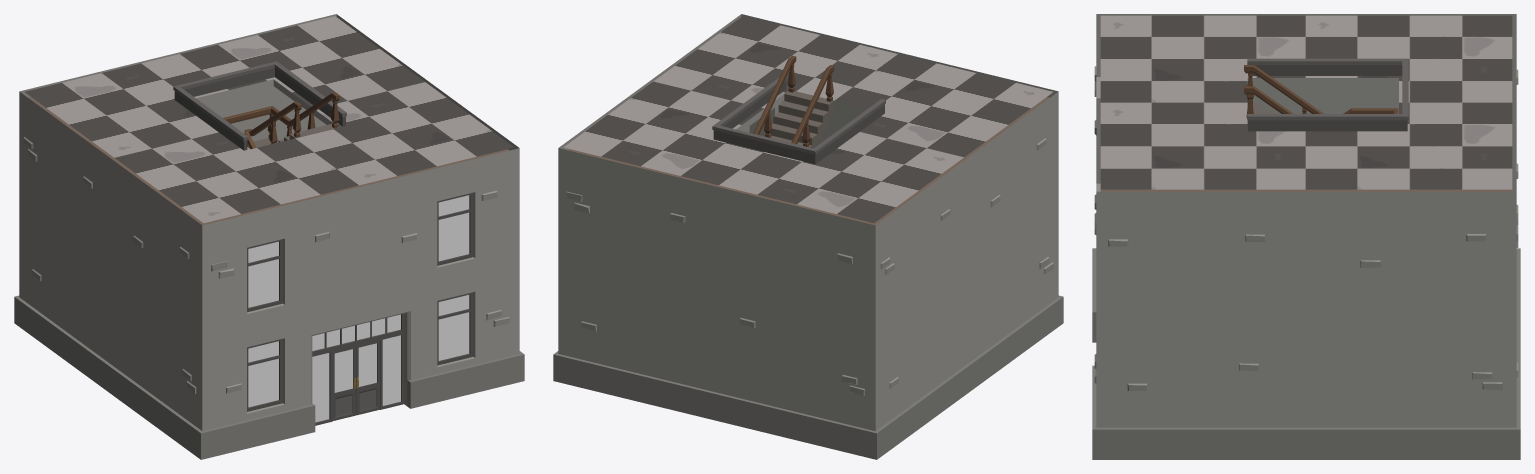
Rendered from SM_Bldg_City_High-Rise_05_Base.fbx.
3 renders of one model, left to right at view 1: azimuth 30°, elevation 25°; view 2: azimuth 150°, elevation 25°; view 3: azimuth 270°, elevation 25°, orthographic. The views are drawn at different scales.
Visible parts, largest first — view 1: SM_Bldg_City_High-Rise_05_Base, SM_Bldg_City_High-Rise_05_Base_Glass; view 2: SM_Bldg_City_High-Rise_05_Base; view 3: SM_Bldg_City_High-Rise_05_Base.
Part boxes in pixels (x1,y1,x2,y2): SM_Bldg_City_High-Rise_05_Base: (14, 14, 524, 459); SM_Bldg_City_High-Rise_05_Base_Glass: (248, 195, 469, 422); SM_Bldg_City_High-Rise_05_Base: (553, 14, 1063, 459); SM_Bldg_City_High-Rise_05_Base: (1092, 14, 1520, 459).
Size of the model in its own units: 1020 by 815 by 1020.
